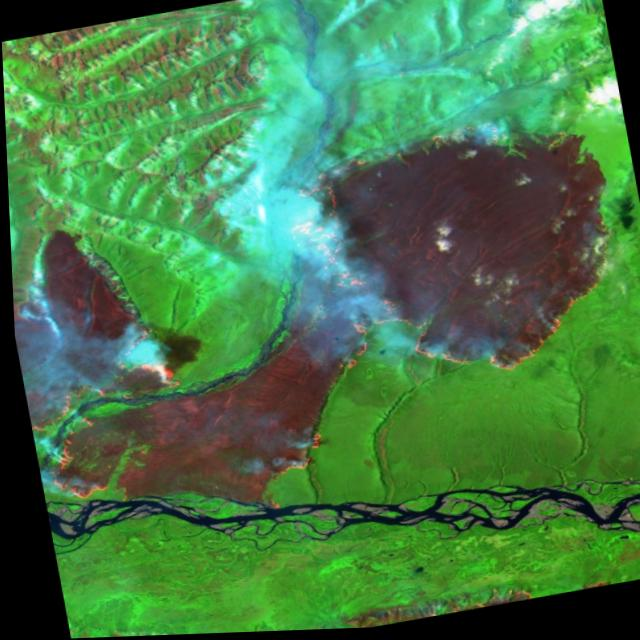fire: (4, 102, 640, 561), (414, 0, 484, 10)
